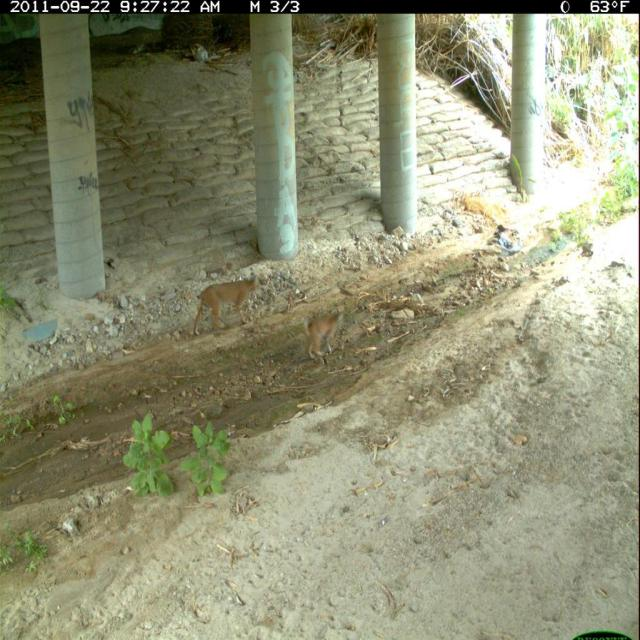bobcat: (189, 270, 266, 342), (300, 305, 350, 367)
